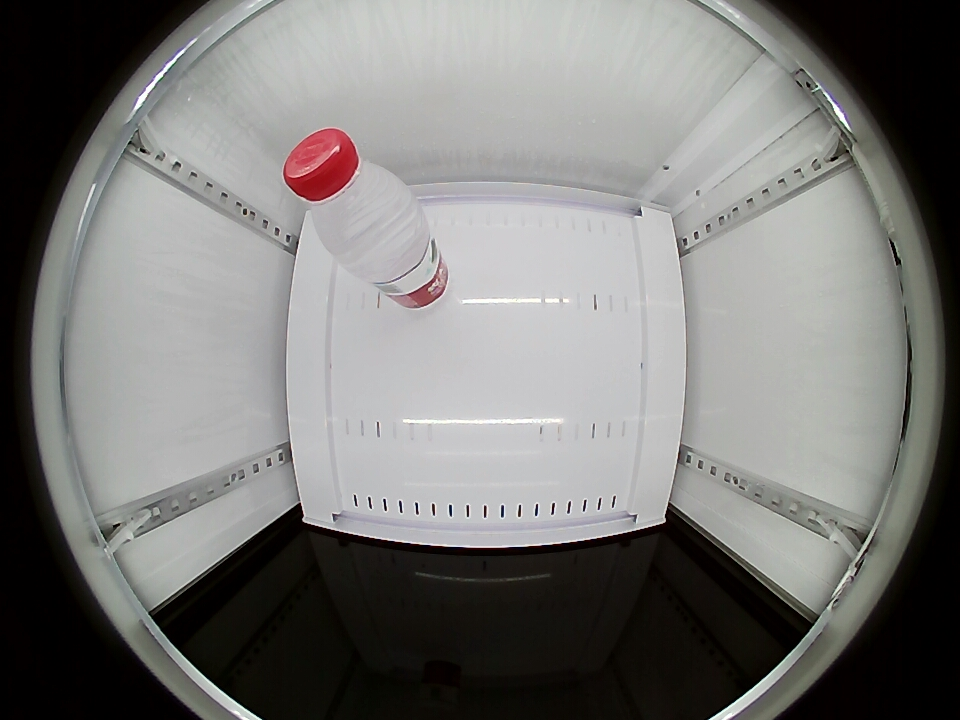nongfushanquan: (283, 128, 412, 257)
